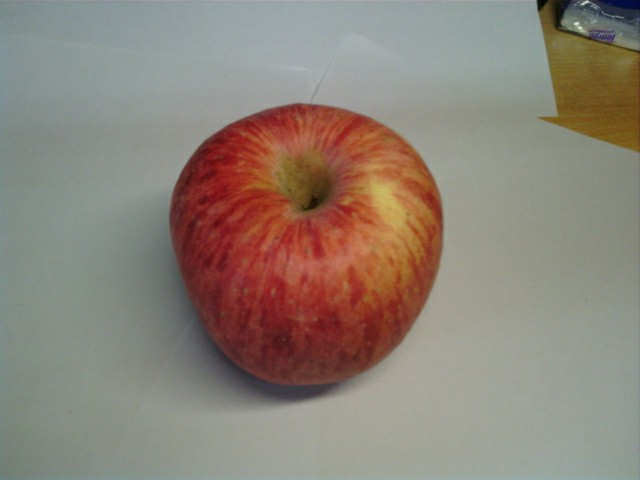normal_apple: (165, 105, 443, 390)
